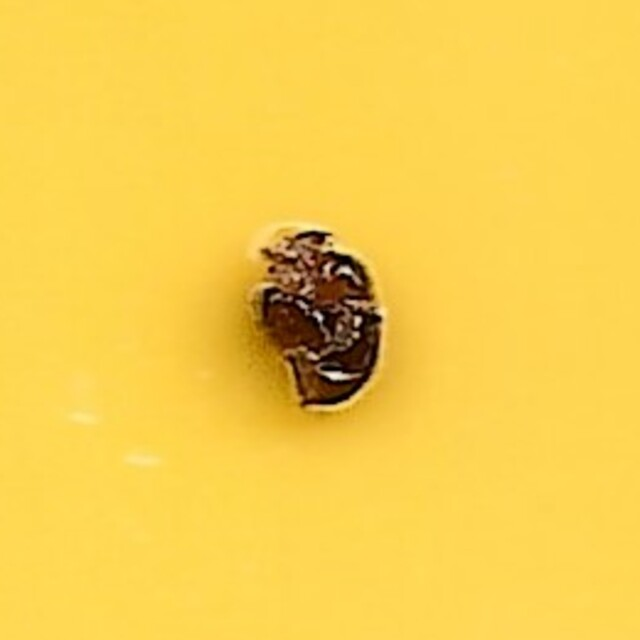Coleoptera: (246, 222, 394, 418)
